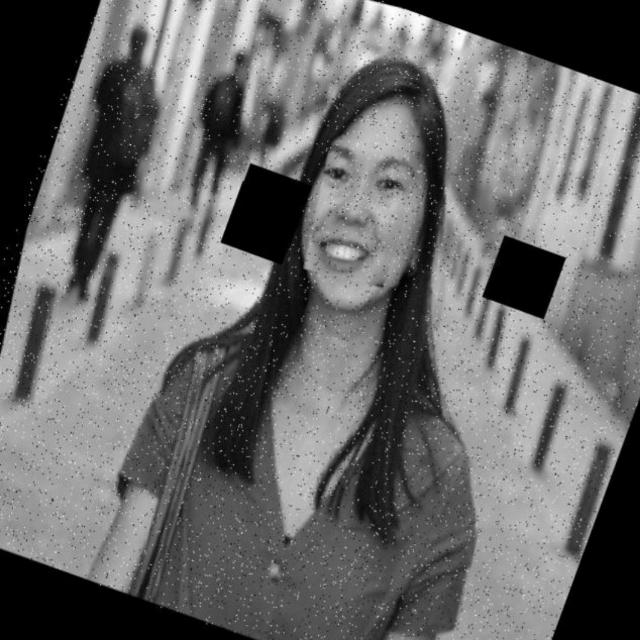Happy: (296, 91, 423, 324)
